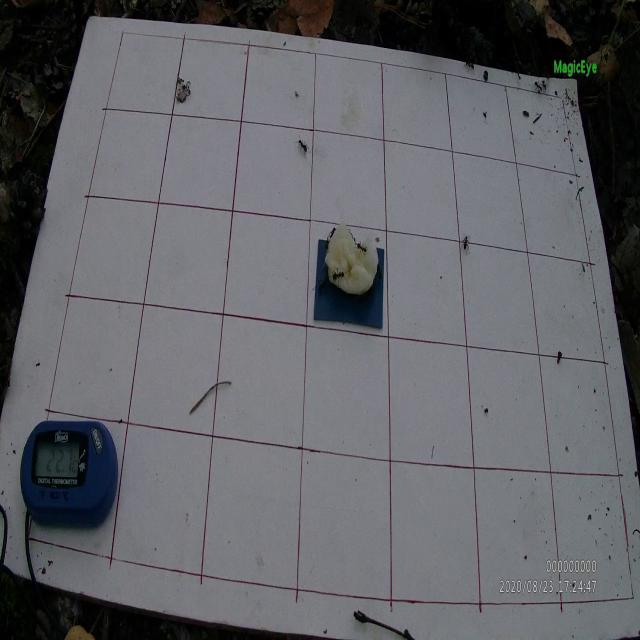Ant: (332, 266, 349, 285), (294, 135, 309, 154), (312, 276, 328, 291), (460, 232, 470, 255), (356, 240, 367, 255), (464, 61, 474, 74), (534, 80, 542, 92), (542, 79, 546, 92)
